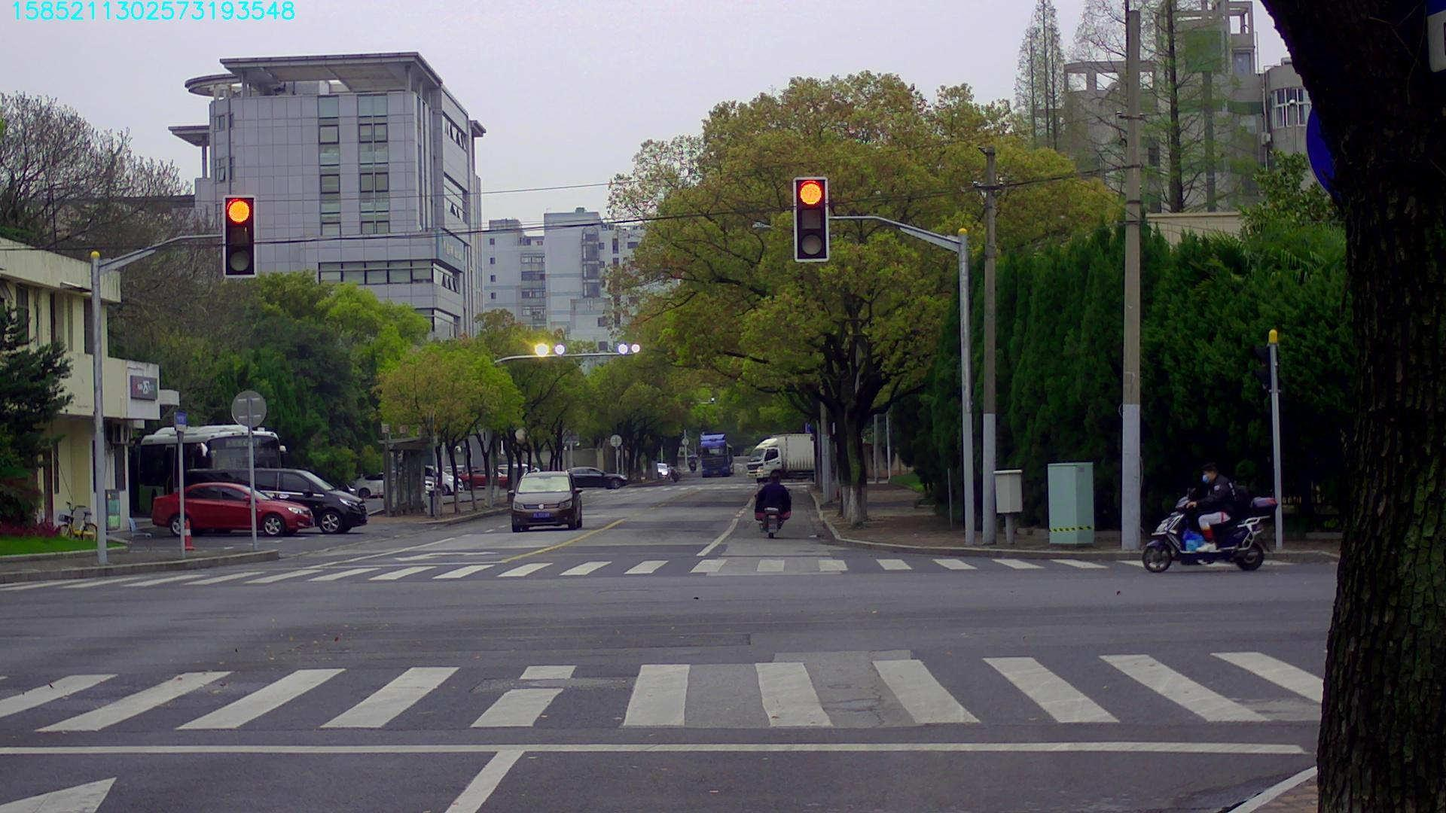red: (795, 177, 827, 260), (224, 196, 254, 276)
